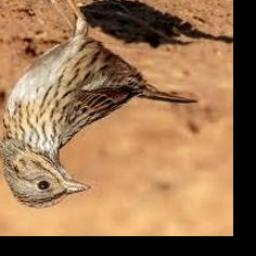Sparrow: (0, 0, 199, 209)
